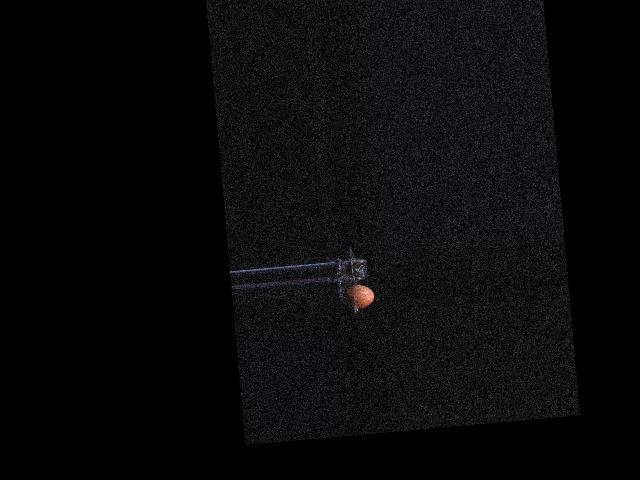egg: (341, 284, 374, 310)
